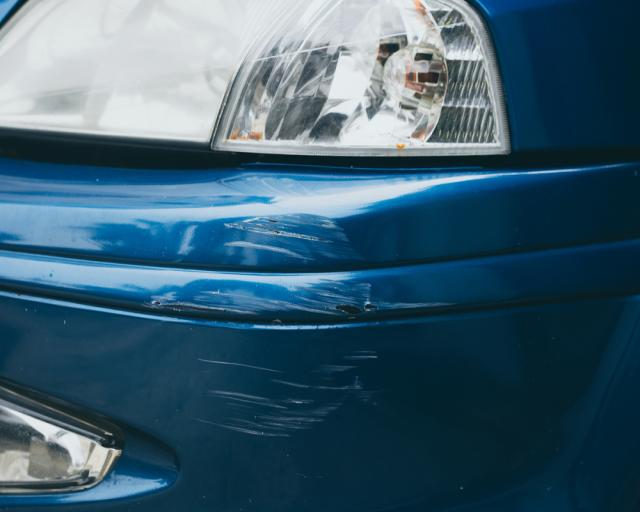scratch: (146, 210, 460, 438)
